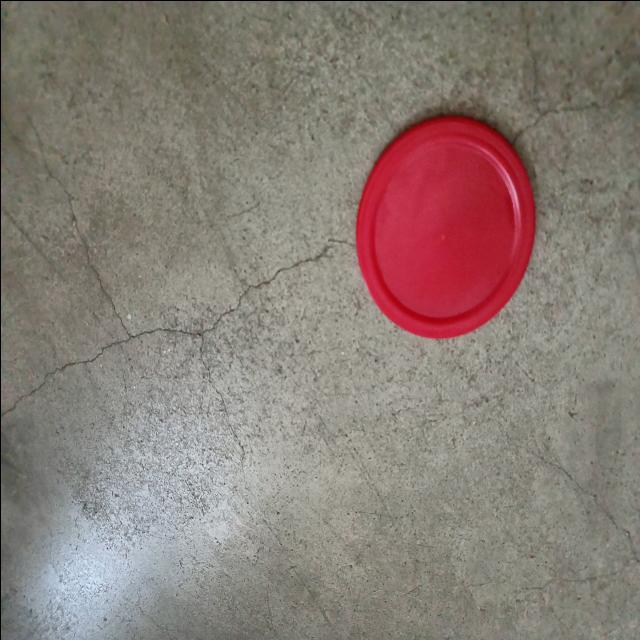chip: (353, 113, 540, 341)
